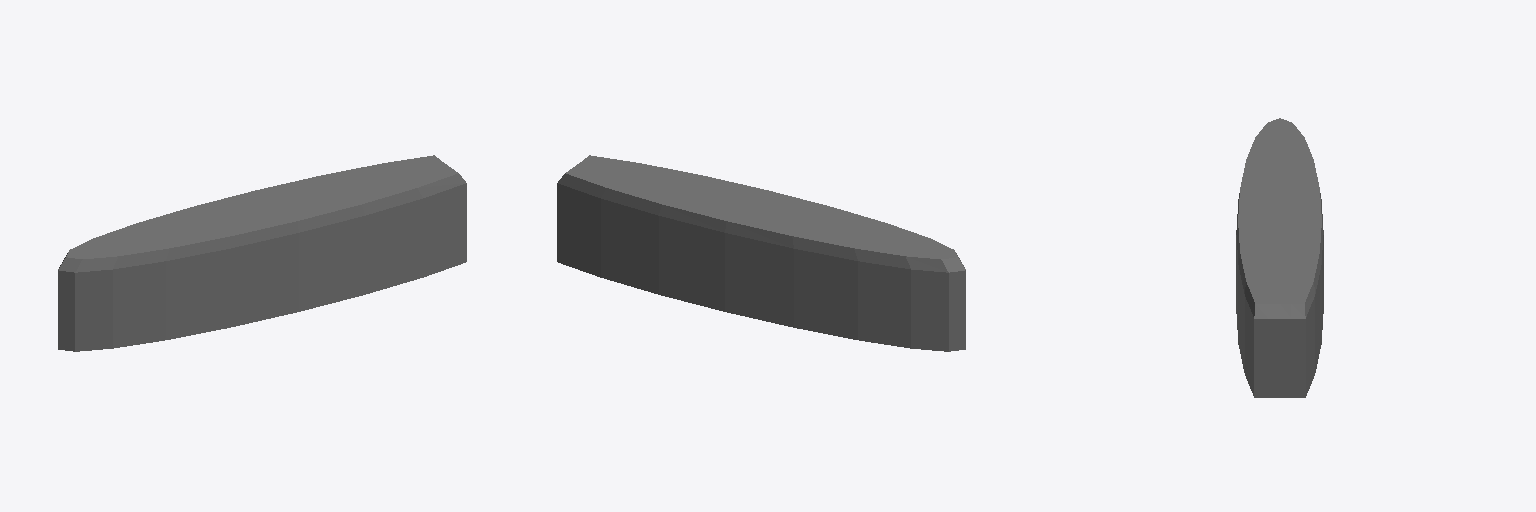
The model's file is PinFlipper.obj.
The picture shows the model from 3 angles: view 1: azimuth 30°, elevation 25°; view 2: azimuth 150°, elevation 25°; view 3: azimuth 270°, elevation 25°; orthographic projection.
Visible parts, largest first — view 1: pCylinder1_pCylinder1; view 2: pCylinder1_pCylinder1; view 3: pCylinder1_pCylinder1.
Boxes of the visible parts, <box> form: pCylinder1_pCylinder1: <box>58,155,466,351</box>; pCylinder1_pCylinder1: <box>557,155,965,351</box>; pCylinder1_pCylinder1: <box>1236,118,1323,397</box>.
Bounding box in the file's own units: 10.47 × 2.28 × 2.